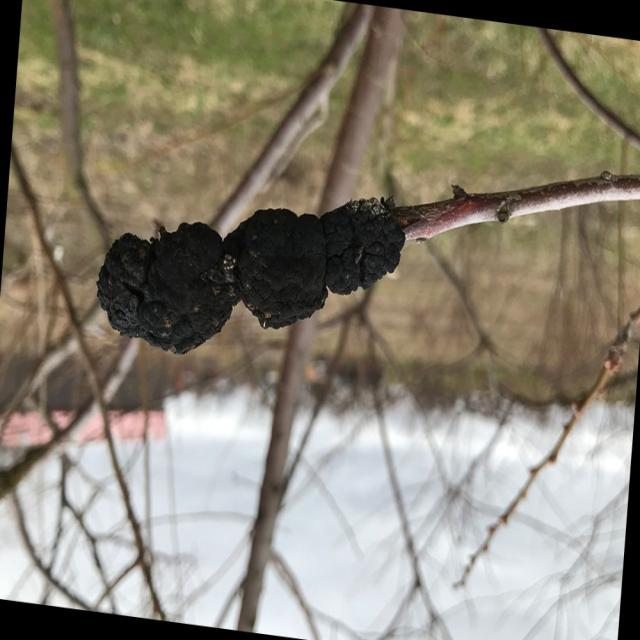Black_knot: (95, 193, 406, 356), (94, 218, 238, 355), (227, 205, 329, 330), (320, 194, 406, 296)
